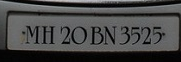2: (59, 25, 71, 45), (141, 26, 152, 45)
3: (119, 26, 130, 45)
5: (151, 26, 163, 45), (130, 26, 141, 45)
B: (90, 26, 104, 46)
H: (42, 25, 56, 45)
M: (25, 25, 40, 45)
N: (104, 25, 117, 46)
O: (71, 25, 88, 45)
